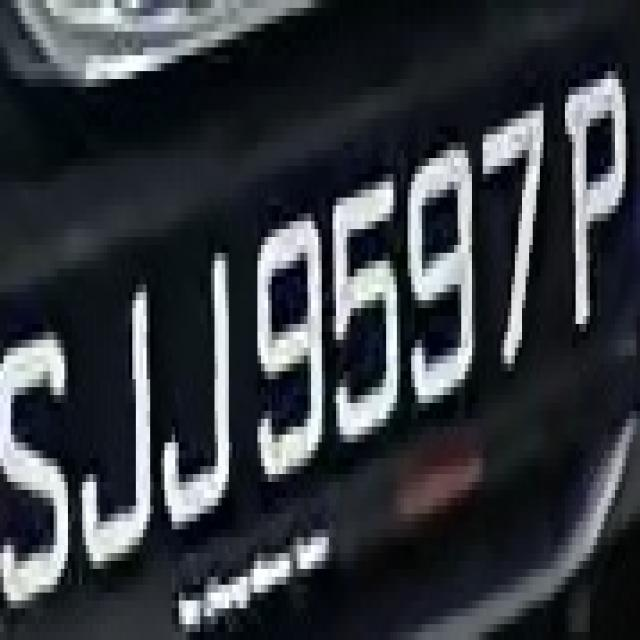5: (322, 166, 408, 466)
7: (476, 103, 547, 387)
9: (400, 142, 482, 450), (258, 221, 336, 490)
J: (86, 284, 164, 584), (161, 253, 243, 537)
P: (558, 47, 633, 340)
S: (7, 308, 82, 640)
